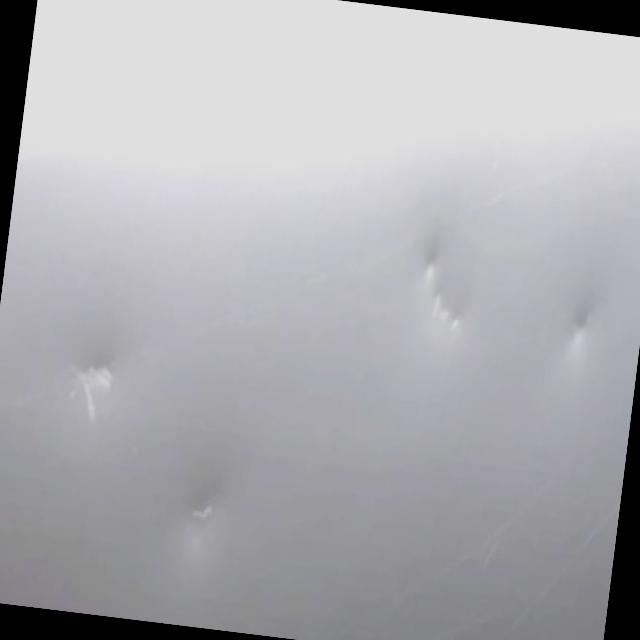dent: (372, 216, 486, 358), (172, 448, 241, 550), (544, 287, 613, 373), (82, 321, 141, 418)
